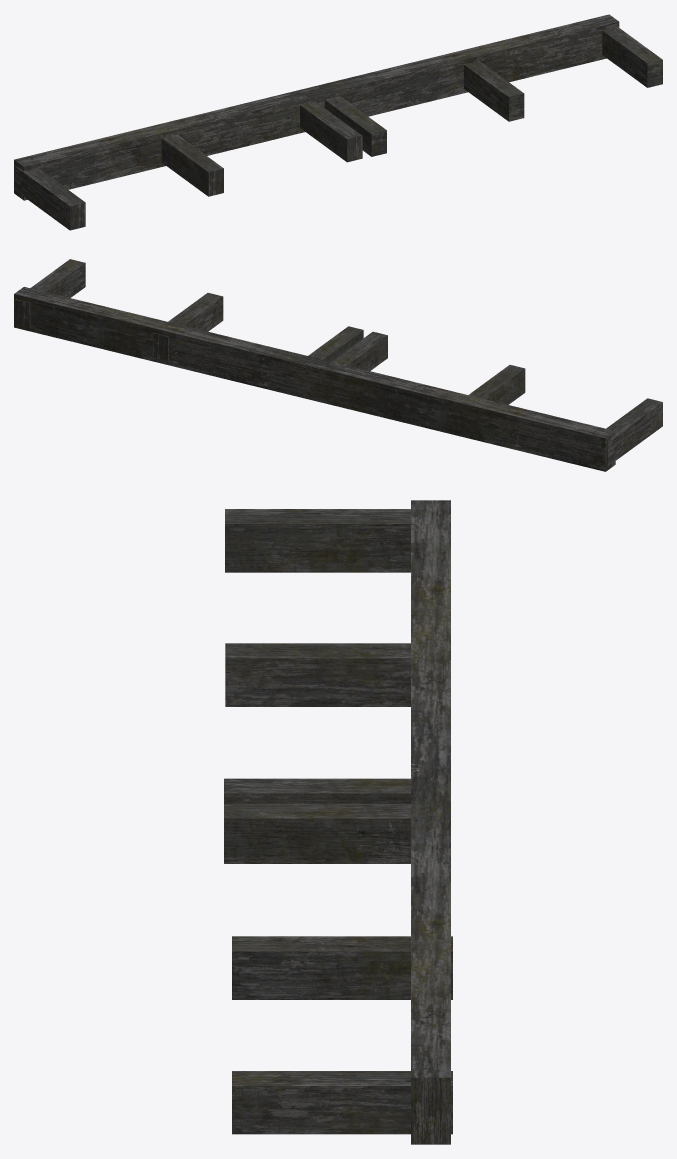
File: SM_PlankCeiling_3.fbx
3 renders of one model, top to bottom at view 1: azimuth 30°, elevation 25°; view 2: azimuth 150°, elevation 25°; view 3: azimuth 270°, elevation 25°, orthographic. The views are drawn at different scales.
Visible parts, largest first — view 1: SM_PlankCeiling_3; view 2: SM_PlankCeiling_3; view 3: SM_PlankCeiling_3.
Boxes of the visible parts, <box> form: SM_PlankCeiling_3: <box>14,14,662,230</box>; SM_PlankCeiling_3: <box>14,259,662,471</box>; SM_PlankCeiling_3: <box>224,500,452,1144</box>.
Size of the model in its own units: 644 by 108 by 34.79.
